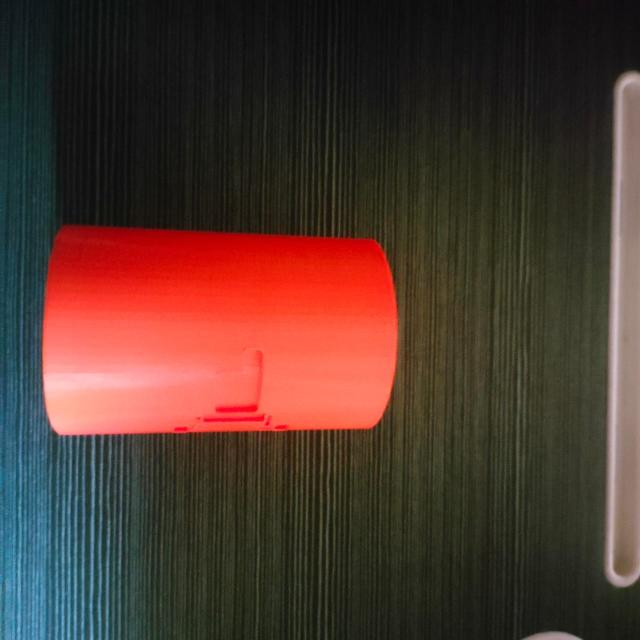Cylinder: (41, 222, 399, 436)
